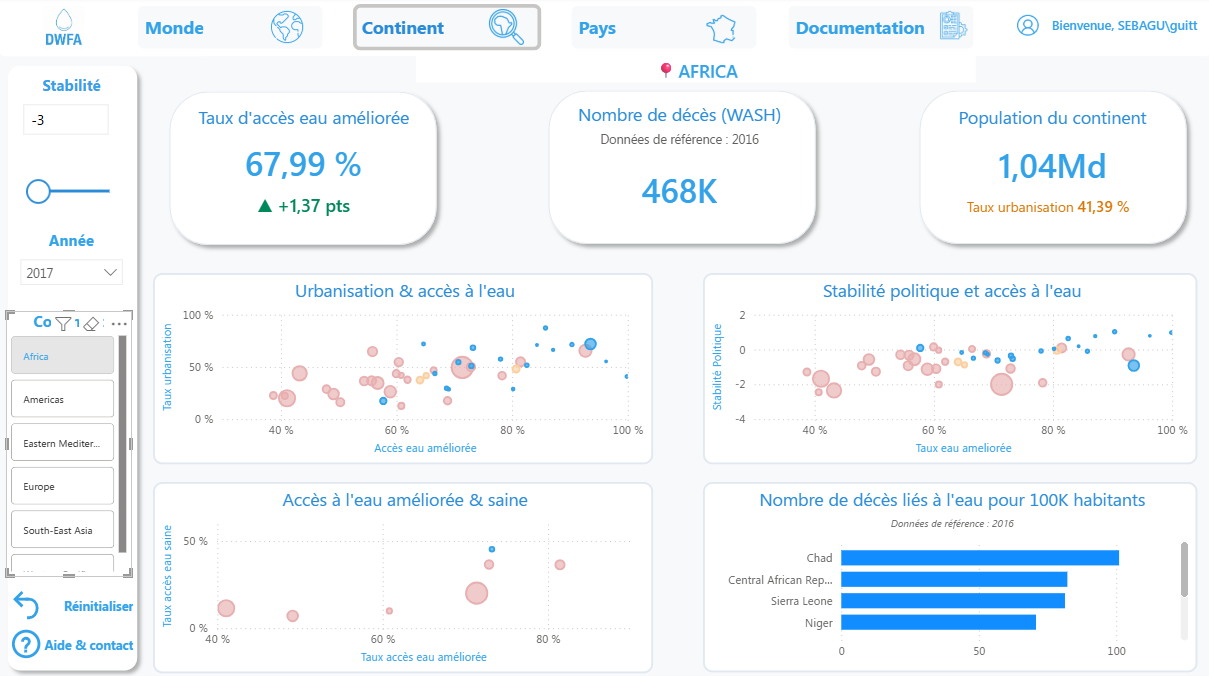

The page's visual inventory and layout, read from the dashboard file:
{"tool":"powerbi","page":{"name":"Continent","canvas":[1280,720],"ordinal":1},"visuals":[{"type":"shape","box":[0,63.3,155,656.7],"z":0},{"type":"shape","box":[0,0,1280,62.9],"z":1000},{"type":"shape","box":[170.6,90.6,300,180],"z":2000,"group":"g1"},{"type":"actionButton","box":[12.2,663.3,133.3,40],"z":2000},{"type":"shape","box":[570.7,90,300,180],"z":3000,"group":"g3"},{"type":"actionButton","box":[12.2,622.2,133.3,40],"z":3000},{"type":"shape","box":[962.9,90,300,180],"z":4000,"group":"g2"},{"type":"shape","box":[12.7,188.2,110.9,38.2],"z":4000},{"type":"barChart","title":"Nombre de décès liés à l''eau pour 100K habitants ","fields":{"Category":["Dim_Country.Country"],"Y":["_Mesures.Tx_mortalite_genre_100k"]},"box":[743.5,511.8,522.4,201.2],"z":5000},{"type":"scatterChart","title":"Urbanisation & accès à l''eau","fields":{"Category":["Dim_Country.Country"],"Size":["_Mesures.Total_pop_pays"],"X":["_Mesures.Taux_Eau_Basique_Total"],"Y":["_Mesures.Taux_Urbanisation_Total"]},"box":[162.4,291.8,528.2,202.4],"z":6000},{"type":"scatterChart","title":"Accès à l''eau améliorée & saine","fields":{"Category":["Dim_Country.Country"],"Size":["_Mesures.Total_pop_pays"],"X":["_Mesures.Taux_Eau_Basique_Total"],"Y":["_Mesures.Taux_Eau_Potable_Total"]},"box":[162.4,511.8,528.2,202.4],"z":7000},{"type":"scatterChart","title":"Stabilité politique et accès à l''eau","fields":{"Category":["Dim_Country.Country"],"Size":["_Mesures.Total_Pop_Pays"],"X":["_Mesures.Taux_Eau_Basique_Total"],"Y":["Sum(Fact_Stability.Political_Stability)"]},"box":[743.5,291.8,522.4,202.4],"z":8000},{"type":"group","id":"g1","title":"Groupe 3","box":[170.6,90.6,300,180],"z":9000},{"type":"group","id":"g2","title":"Groupe 1","box":[962.9,90,300,180],"z":10000},{"type":"group","id":"g3","title":"Groupe 2","box":[570.7,90,300,180],"z":11000},{"type":"cardVisual","fields":{"Data":["_Mesures.Affichage_libelle_contexte_continent"]},"box":[439.7,62.7,591.3,28.5],"z":12000},{"type":"cardVisual","title":"Nombre de décès (WASH)","fields":{"Data":["_Mesures.Total_Morts_WASH"]},"box":[591,111.1,254.4,136.7],"z":12000,"group":"g3"},{"type":"image","box":[46,6.7,44,52],"z":13000},{"type":"cardVisual","title":"Taux d''accès eau améliorée","fields":{"Data":["_Mesures.Tx_eau_amelioree_total","_Mesures.Affichage_evolution_eau_amelioree_"]},"box":[198.8,114.1,244.7,140],"z":13000,"group":"g1"},{"type":"cardVisual","fields":{"Data":["Projects_plans.Message_Bienvenue"]},"box":[1106.8,0,169.9,56.2],"z":14000},{"type":"cardVisual","fields":{"Data":["Sum(Fact_Population.Population)"]},"box":[980.6,113.9,263,140.6],"z":14000,"group":"g2"},{"type":"image","box":[1074.7,16.1,22.7,28.1],"z":15000},{"type":"pageNavigator","box":[144.7,7.1,887.1,49.4],"z":16000},{"type":"slicer","title":"Stabilité","fields":{"Values":["Fact_Stability.Score_Filtre"]},"box":[12.4,82.4,127.6,171.8],"z":17000},{"type":"slicer","title":"Année","fields":{"Values":["Dim_year.Year"]},"box":[12.4,245.9,127.6,73.5],"z":18000},{"type":"advancedSlicerVisual","title":"Continent","fields":{"Values":["Dim_Country.Continent"]},"box":[7.7,331.5,132.3,280.8],"z":19000},{"type":"image","box":[287.7,12.4,33.8,37.5],"z":20000},{"type":"image","box":[516.4,12.4,38.8,37.5],"z":21000},{"type":"image","box":[743.3,12.4,38.1,42.5],"z":22000},{"type":"image","box":[992.7,12.4,31.2,33.8],"z":23000},{"type":"shape","box":[17.1,152.7,113.9,35.3],"z":24000}]}

Visuals, with their boxes on the page's 1280x720 design canvas (x1, y1, x2, y2). These are canvas units, not pixel positions in the 1209x676 screenshot, which may show the page scaled, cropped or inside an application window:
shape: detection(0, 63, 155, 720)
shape: detection(0, 0, 1280, 63)
shape: detection(171, 91, 471, 271)
actionButton: detection(12, 663, 146, 703)
shape: detection(571, 90, 871, 270)
actionButton: detection(12, 622, 146, 662)
shape: detection(963, 90, 1263, 270)
shape: detection(13, 188, 124, 226)
"Nombre de décès liés à l''eau pour 100K habitants " barChart: detection(744, 512, 1266, 713)
"Urbanisation & accès à l''eau" scatterChart: detection(162, 292, 691, 494)
"Accès à l''eau améliorée & saine" scatterChart: detection(162, 512, 691, 714)
"Stabilité politique et accès à l''eau" scatterChart: detection(744, 292, 1266, 494)
"Groupe 3" group: detection(171, 91, 471, 271)
"Groupe 1" group: detection(963, 90, 1263, 270)
"Groupe 2" group: detection(571, 90, 871, 270)
cardVisual - _Mesures.Affichage_libelle_contexte_continent: detection(440, 63, 1031, 91)
"Nombre de décès (WASH)" cardVisual: detection(591, 111, 845, 248)
image: detection(46, 7, 90, 59)
"Taux d''accès eau améliorée" cardVisual: detection(199, 114, 444, 254)
cardVisual - Projects_plans.Message_Bienvenue: detection(1107, 0, 1277, 56)
cardVisual - Sum(Fact_Population.Population): detection(981, 114, 1244, 254)
image: detection(1075, 16, 1097, 44)
pageNavigator: detection(145, 7, 1032, 56)
"Stabilité" slicer: detection(12, 82, 140, 254)
"Année" slicer: detection(12, 246, 140, 319)
"Continent" advancedSlicerVisual: detection(8, 332, 140, 612)
image: detection(288, 12, 322, 50)
image: detection(516, 12, 555, 50)
image: detection(743, 12, 781, 55)
image: detection(993, 12, 1024, 46)
shape: detection(17, 153, 131, 188)
